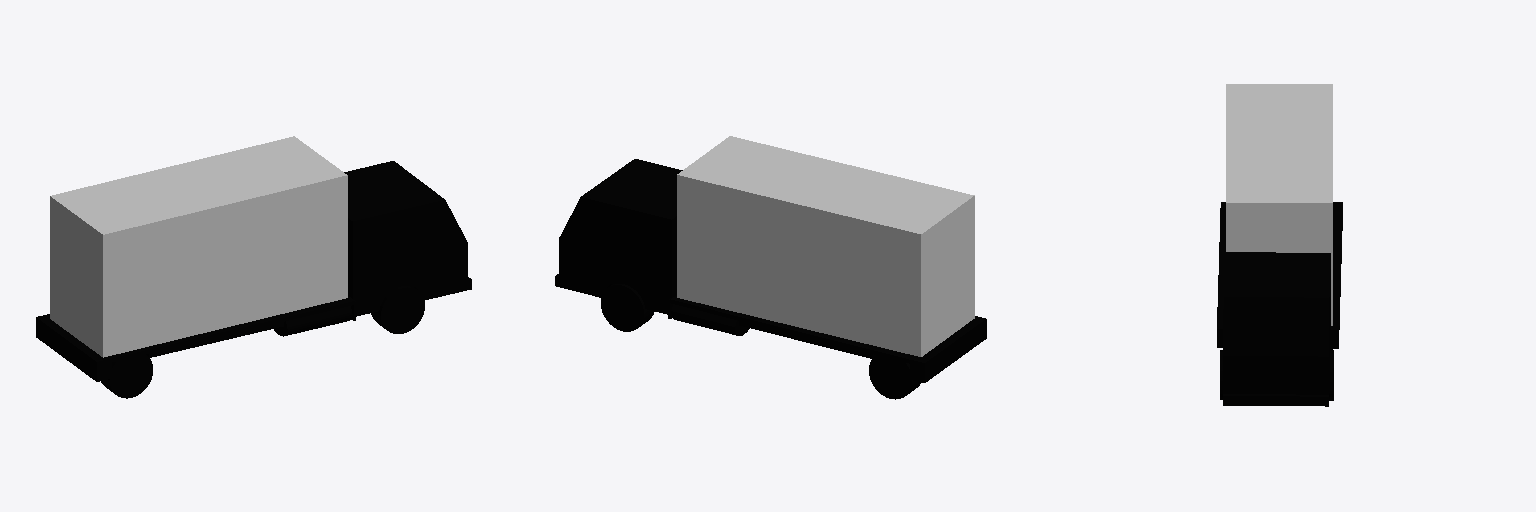
Rendered from truck2.obj.
3 views of the same model, side by side, from view 1: azimuth 30°, elevation 25°; view 2: azimuth 150°, elevation 25°; view 3: azimuth 270°, elevation 25° (orthographic).
Parts seen in each view (by area): view 1: Cube.600_Cube.670; view 2: Cube.600_Cube.670; view 3: Cube.600_Cube.670.
Part boxes in pixels (bbox=[...]): Cube.600_Cube.670: bbox=[36, 136, 471, 398]; Cube.600_Cube.670: bbox=[555, 136, 986, 399]; Cube.600_Cube.670: bbox=[1217, 84, 1342, 406].
Bounding box in the file's own units: 10.15 × 4.34 × 2.94.